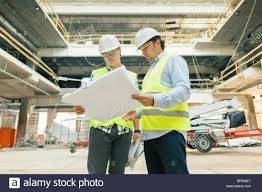helmet: (130, 26, 162, 44), (94, 35, 119, 49)
vest: (143, 62, 190, 130), (91, 70, 133, 125)
